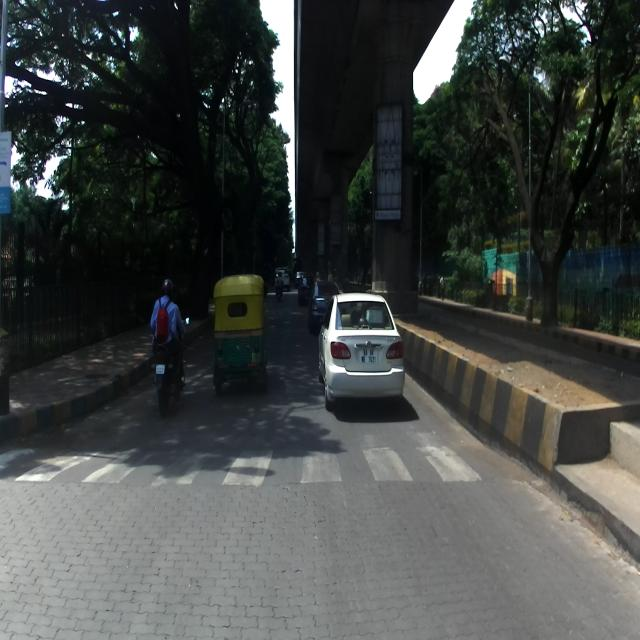auto ahead at: (212, 271, 266, 398)
car ahead at: (323, 289, 406, 416)
motorcycle ahead at: (152, 325, 192, 411)
zebra crossing ahead at: (14, 409, 491, 486)
